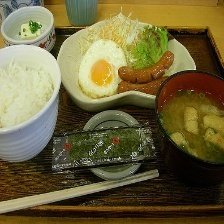rice: (0, 53, 56, 134)
